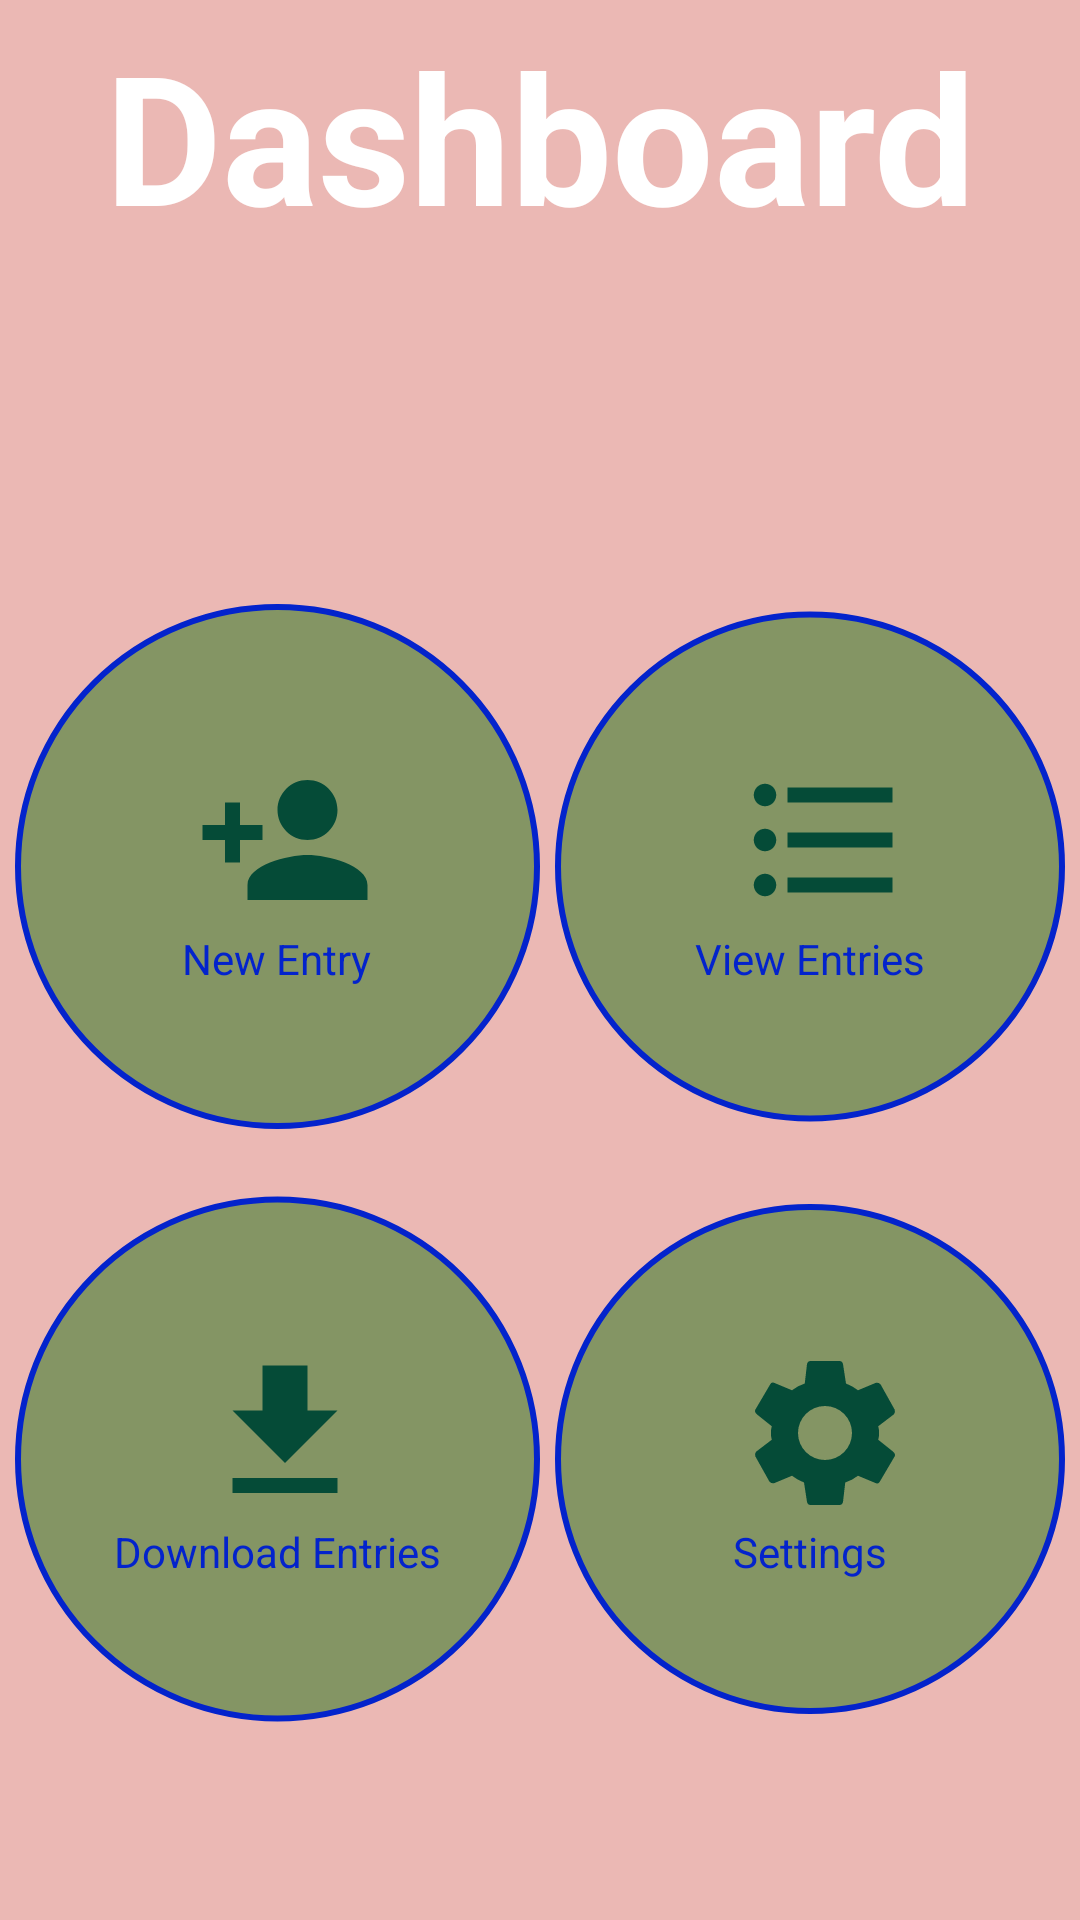

Icons on this 1080w x 1920h Android screen, each with the point to tap as [x,y]:
format list bulleted: [823,840]
person add: [285,840]
